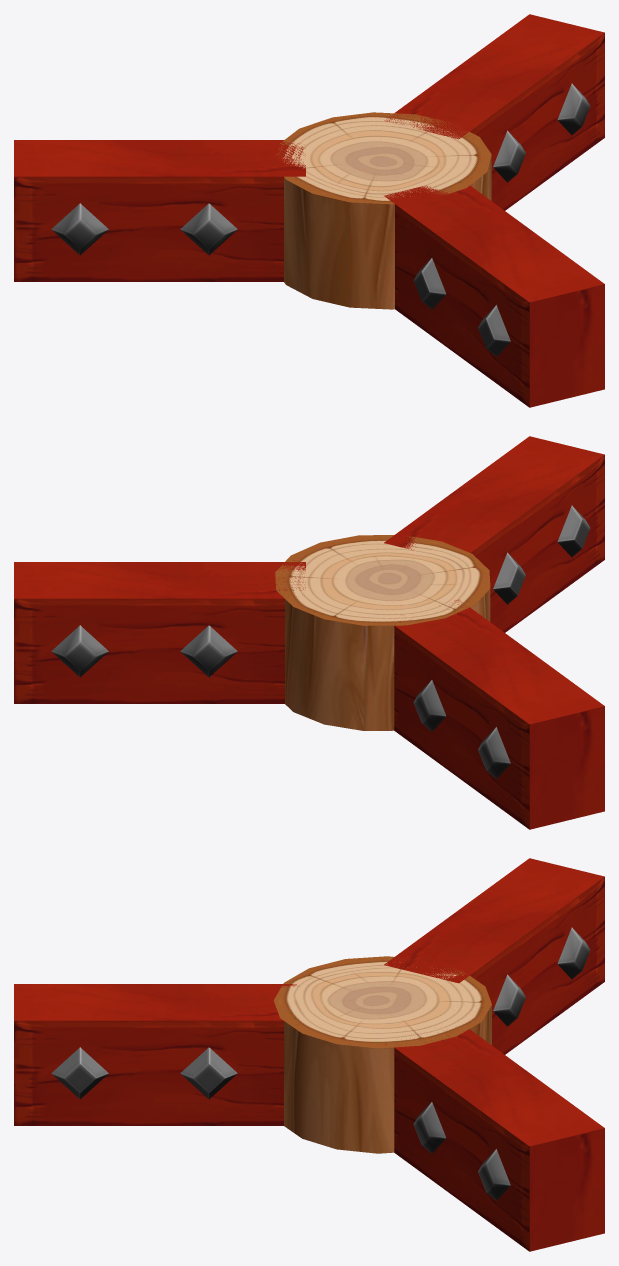
File: three_blade_red_01.fbx
3 renders of one model, top to bottom at view 1: azimuth 30°, elevation 25°; view 2: azimuth 150°, elevation 25°; view 3: azimuth 270°, elevation 25°, orthographic.
Parts seen in each view (by area): view 1: Blade_50, Blade_51, wood_center_15, Blade_49; view 2: Blade_49, Blade_50, wood_center_15, Blade_51; view 3: Blade_51, Blade_49, wood_center_15, Blade_50.
Boxes of the visible parts, left/top/right/bottom form: Blade_50: left=14, top=140, right=305, bottom=281; Blade_51: left=384, top=185, right=604, bottom=407; wood_center_15: left=276, top=112, right=491, bottom=309; Blade_49: left=384, top=14, right=604, bottom=210; Blade_49: left=14, top=562, right=305, bottom=703; Blade_50: left=394, top=599, right=604, bottom=829; wood_center_15: left=275, top=535, right=490, bottom=730; Blade_51: left=384, top=436, right=604, bottom=632; Blade_51: left=14, top=984, right=297, bottom=1125; Blade_49: left=394, top=1029, right=604, bottom=1251; wood_center_15: left=273, top=956, right=491, bottom=1153; Blade_50: left=384, top=858, right=604, bottom=1054.
Bounding box in the file's own units: 235 × 40 × 204.
